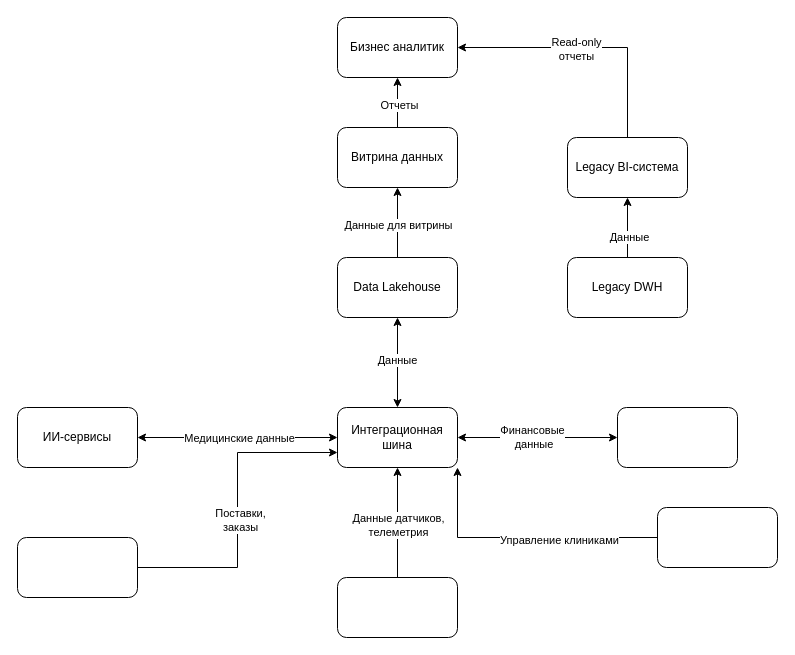
The diagram is 795 pixels wide and 655 high, and some of its shapes have lost their labels. The centre of each missing label's shape, as x and y in pixels:
"Внутренние сервисы" goes at (x=717, y=537).
"Медецинское оборудование, IoT" goes at (x=397, y=607).
"Фармацевтика" goes at (x=77, y=567).
"Финтех-сервисы" goes at (x=677, y=437).
